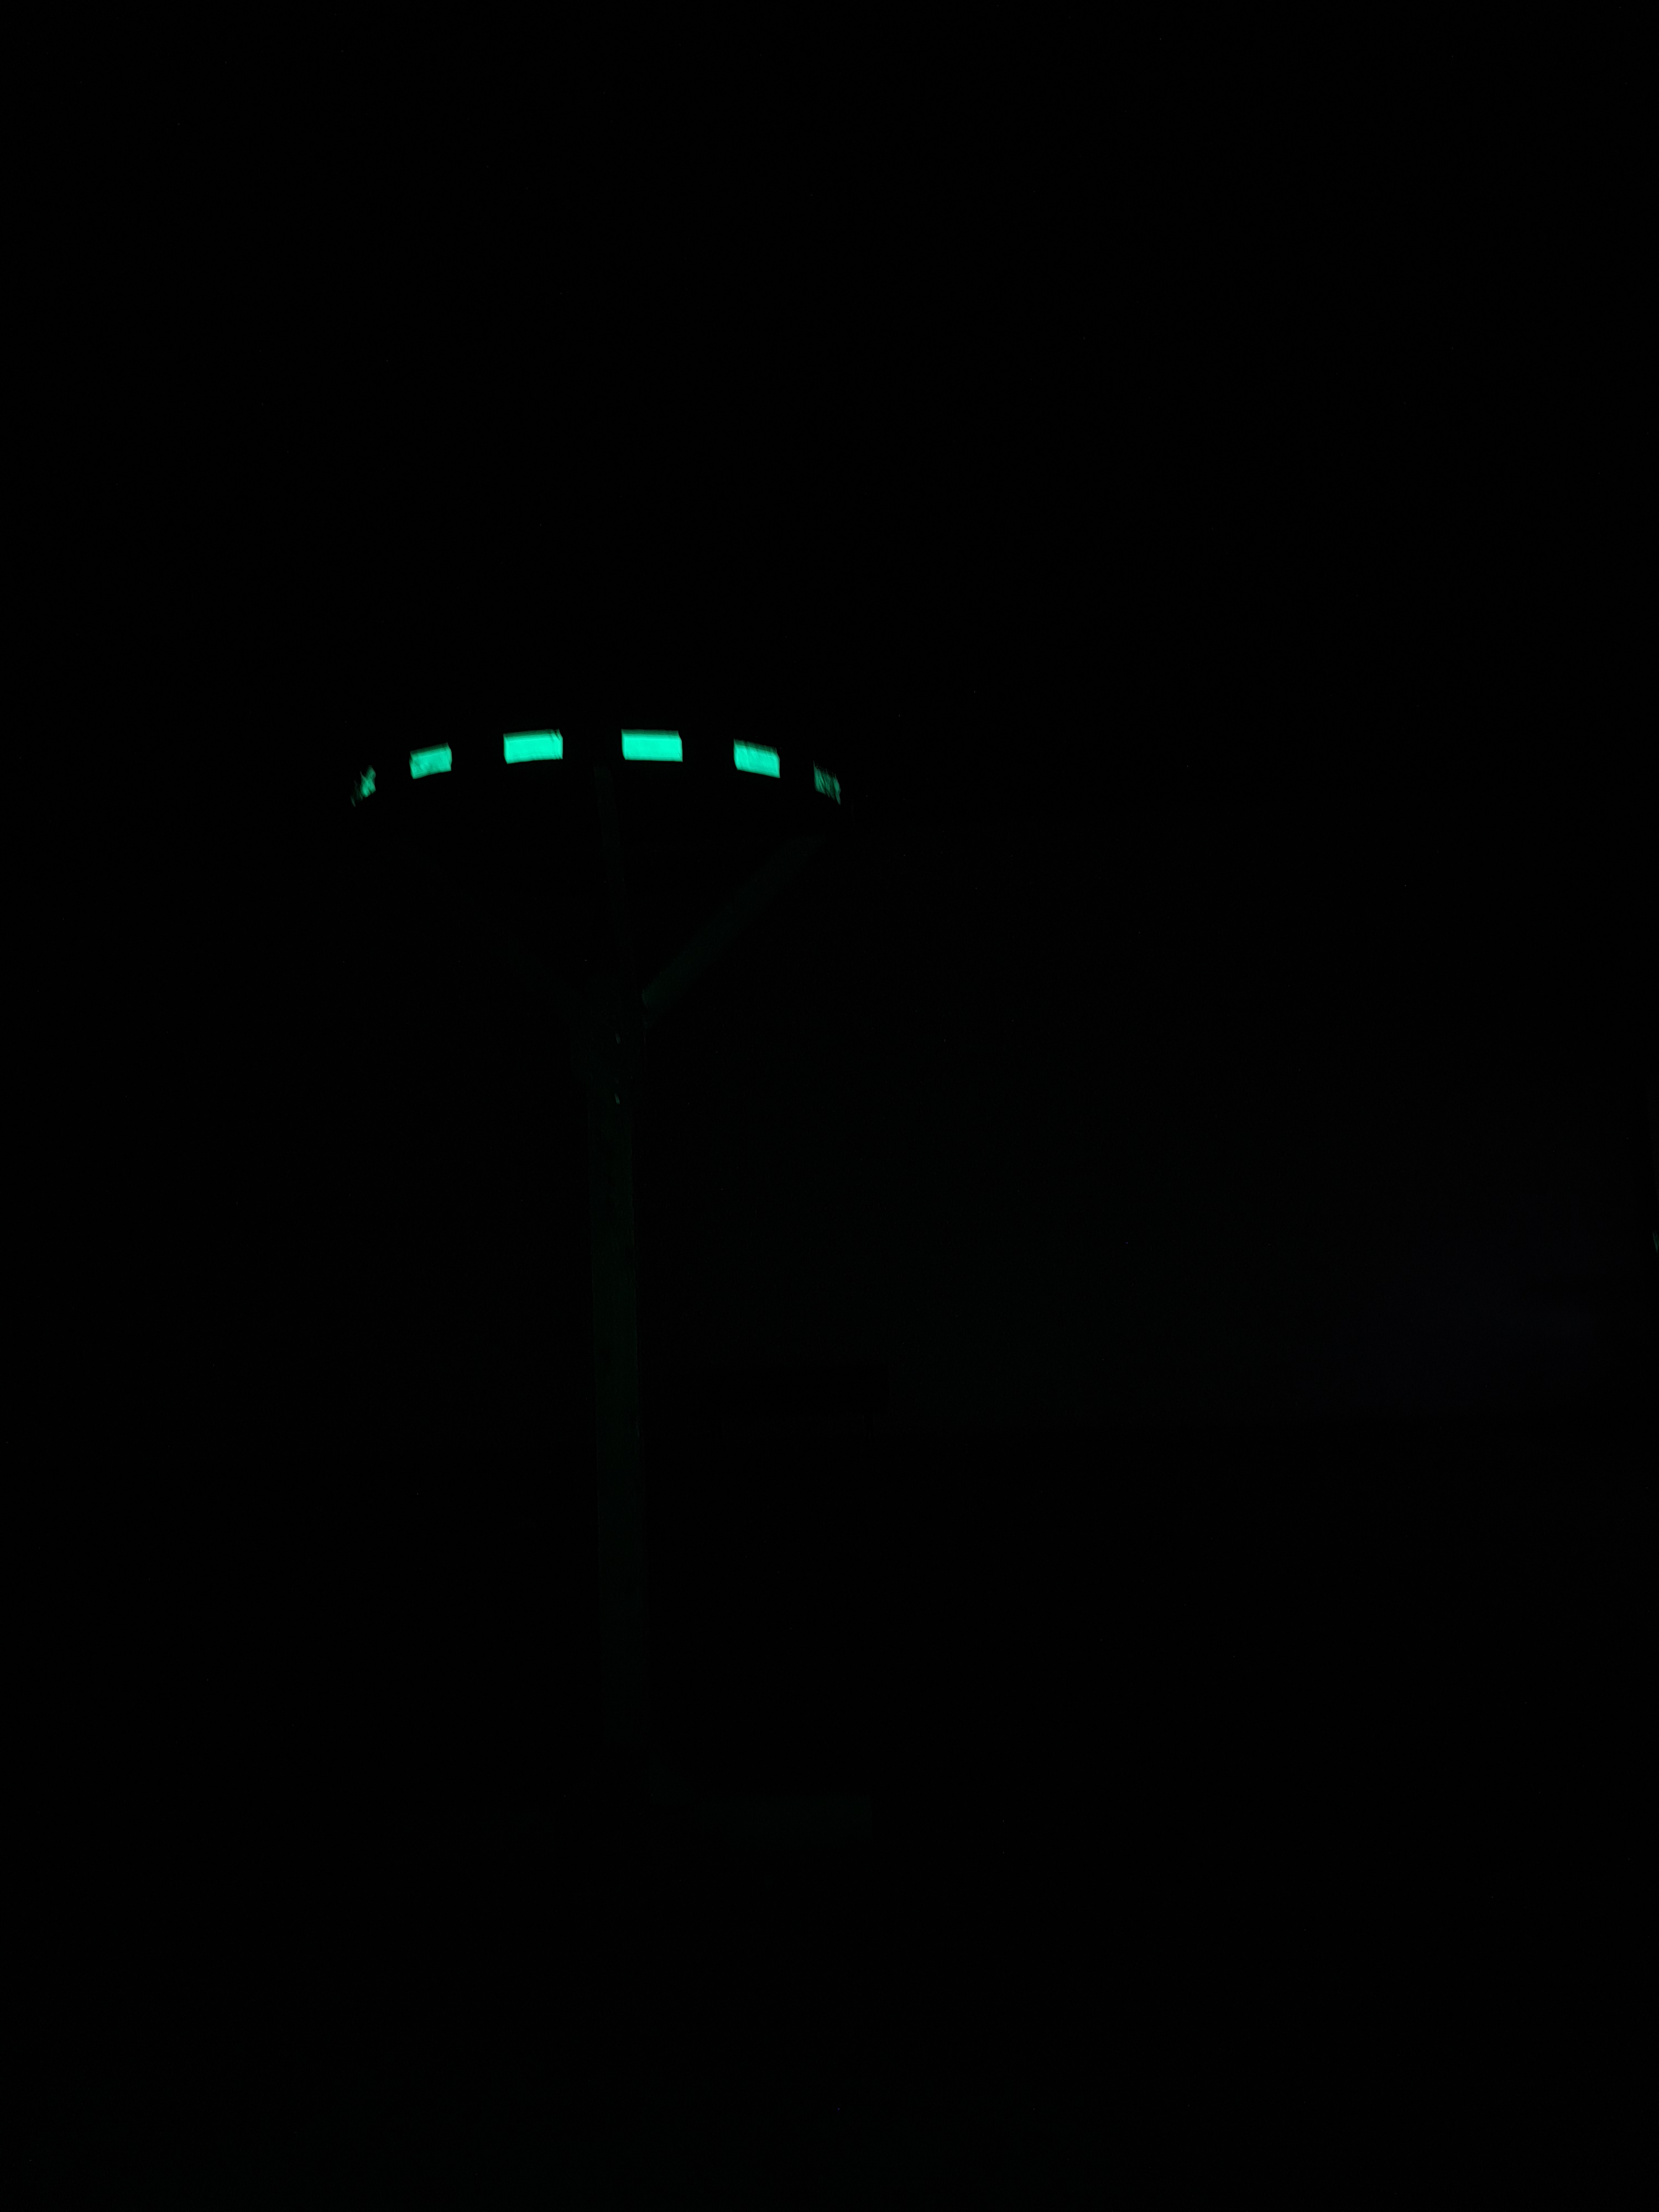hoop: (345, 721, 849, 838)
